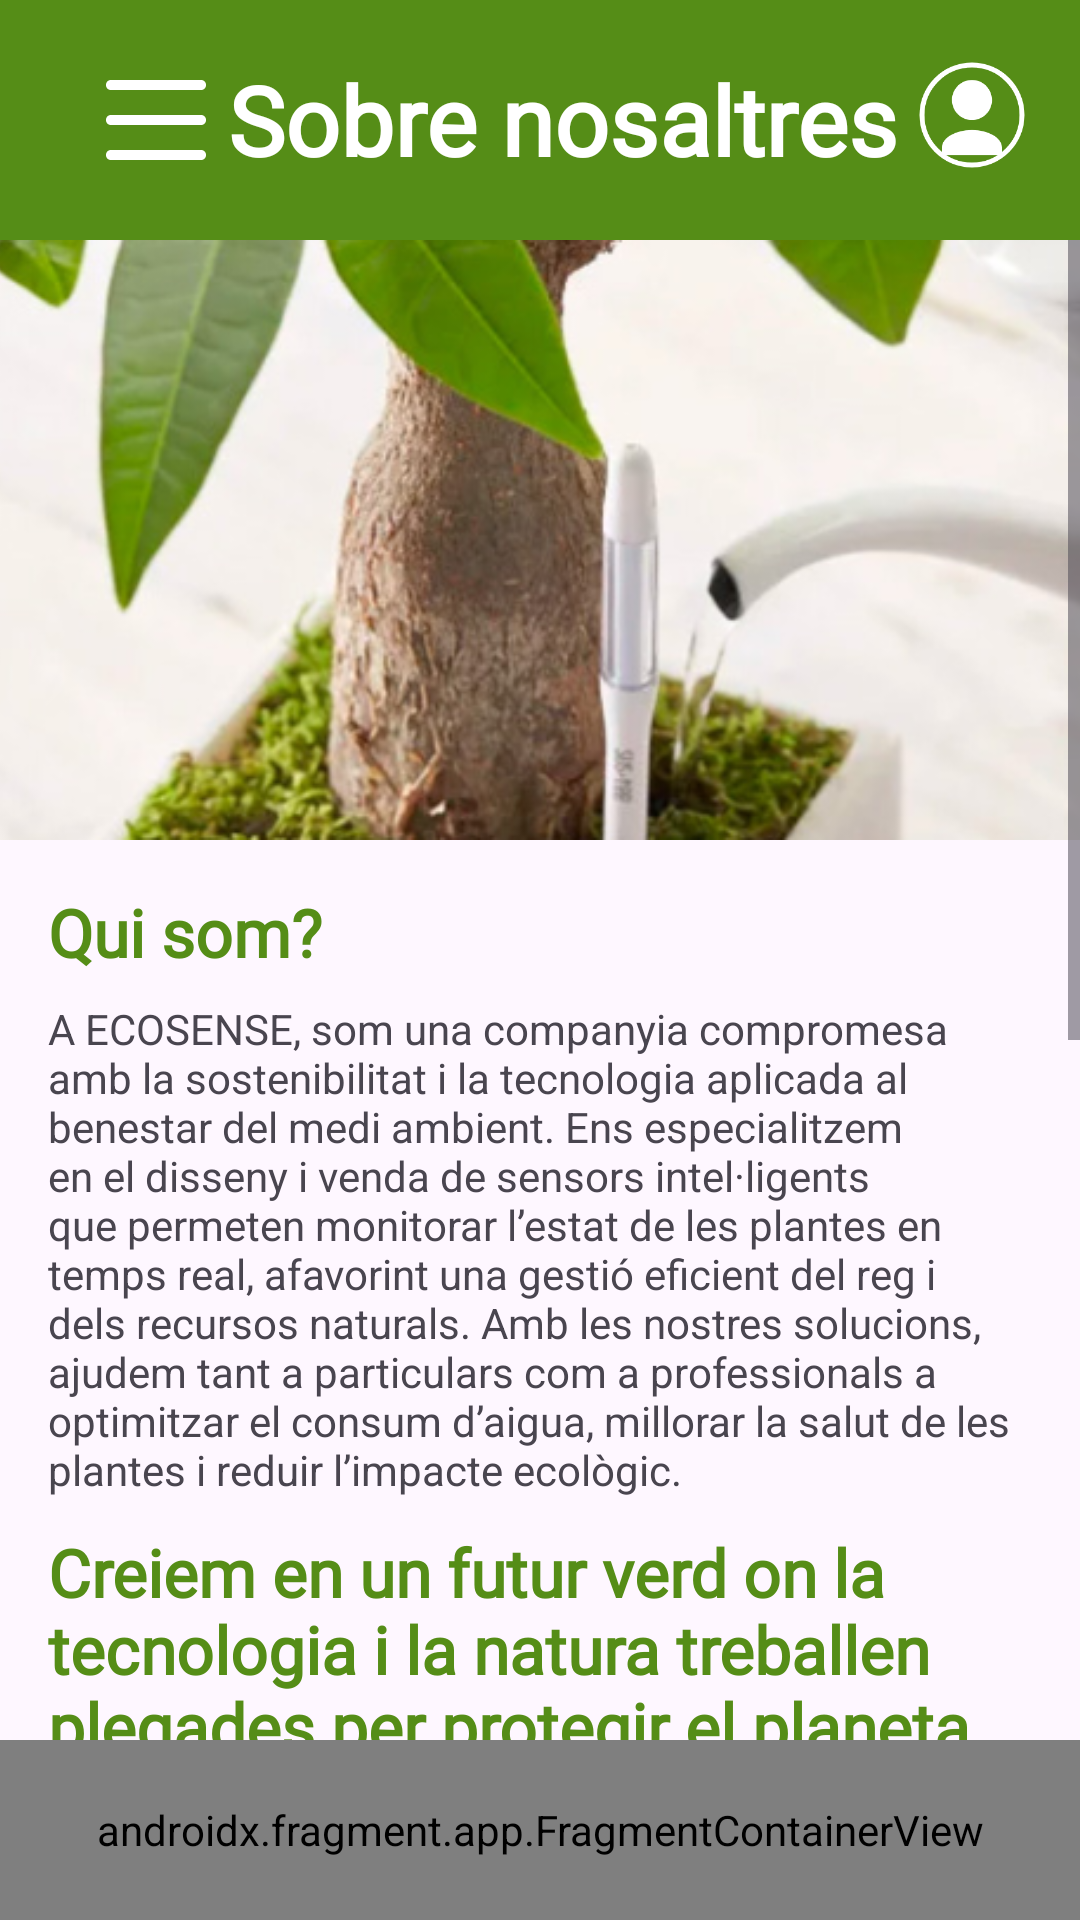

Icons on this 1080 x 1920 Android screen, each with its box as region(x1, y1, x2, y2):
menu: region(106, 80, 206, 160)
user: region(919, 62, 1025, 168)
